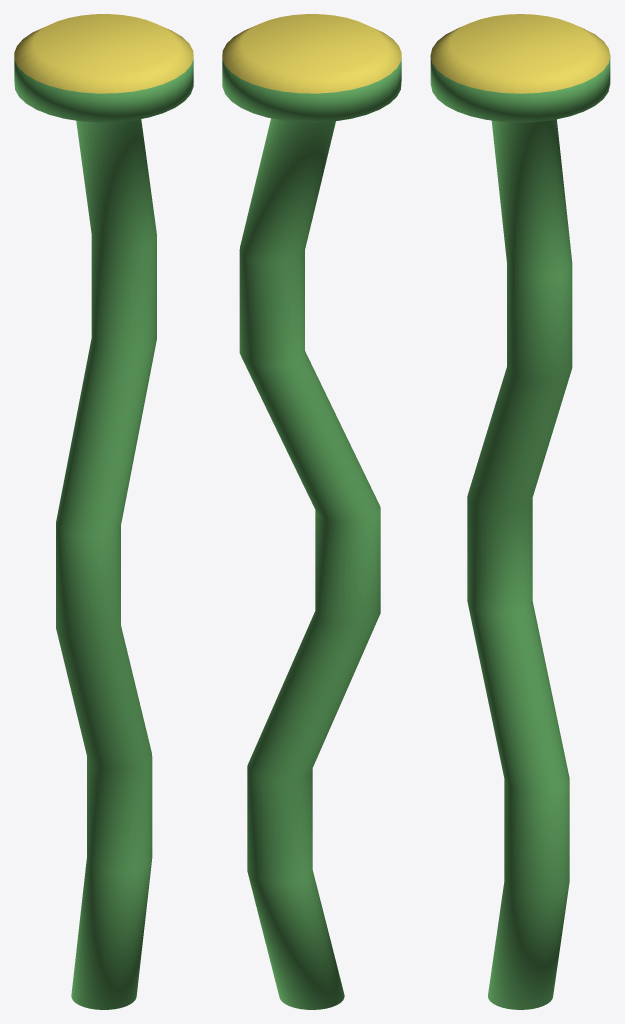
The model's file is Flower2.glb.
3 renders of one model, left to right at view 1: azimuth 30°, elevation 25°; view 2: azimuth 150°, elevation 25°; view 3: azimuth 270°, elevation 25°, orthographic.
Visible parts, largest first — view 1: Circle; view 2: Circle; view 3: Circle.
Part boxes in pixels (x1,y1,x2,y2): Circle: [14, 14, 193, 1009]; Circle: [222, 14, 401, 1009]; Circle: [430, 14, 610, 1009].
Size of the model in its own units: 0.9999 by 5.84 by 0.9999.
